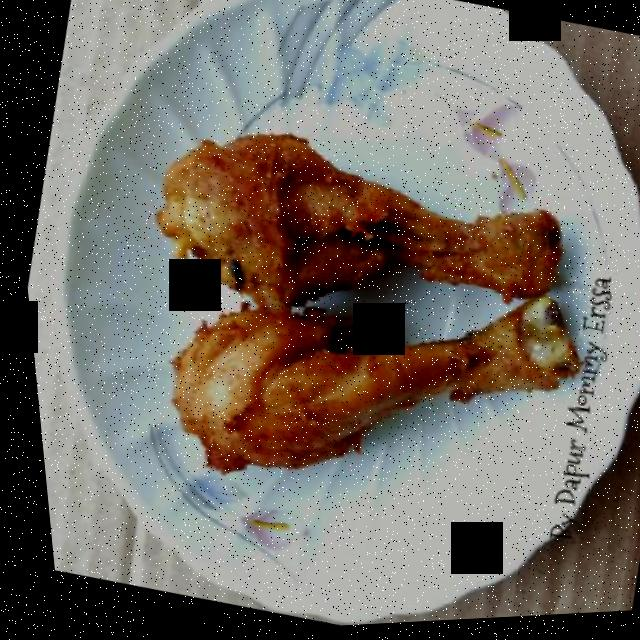Frango: (88, 201, 623, 612), (84, 19, 591, 404)
